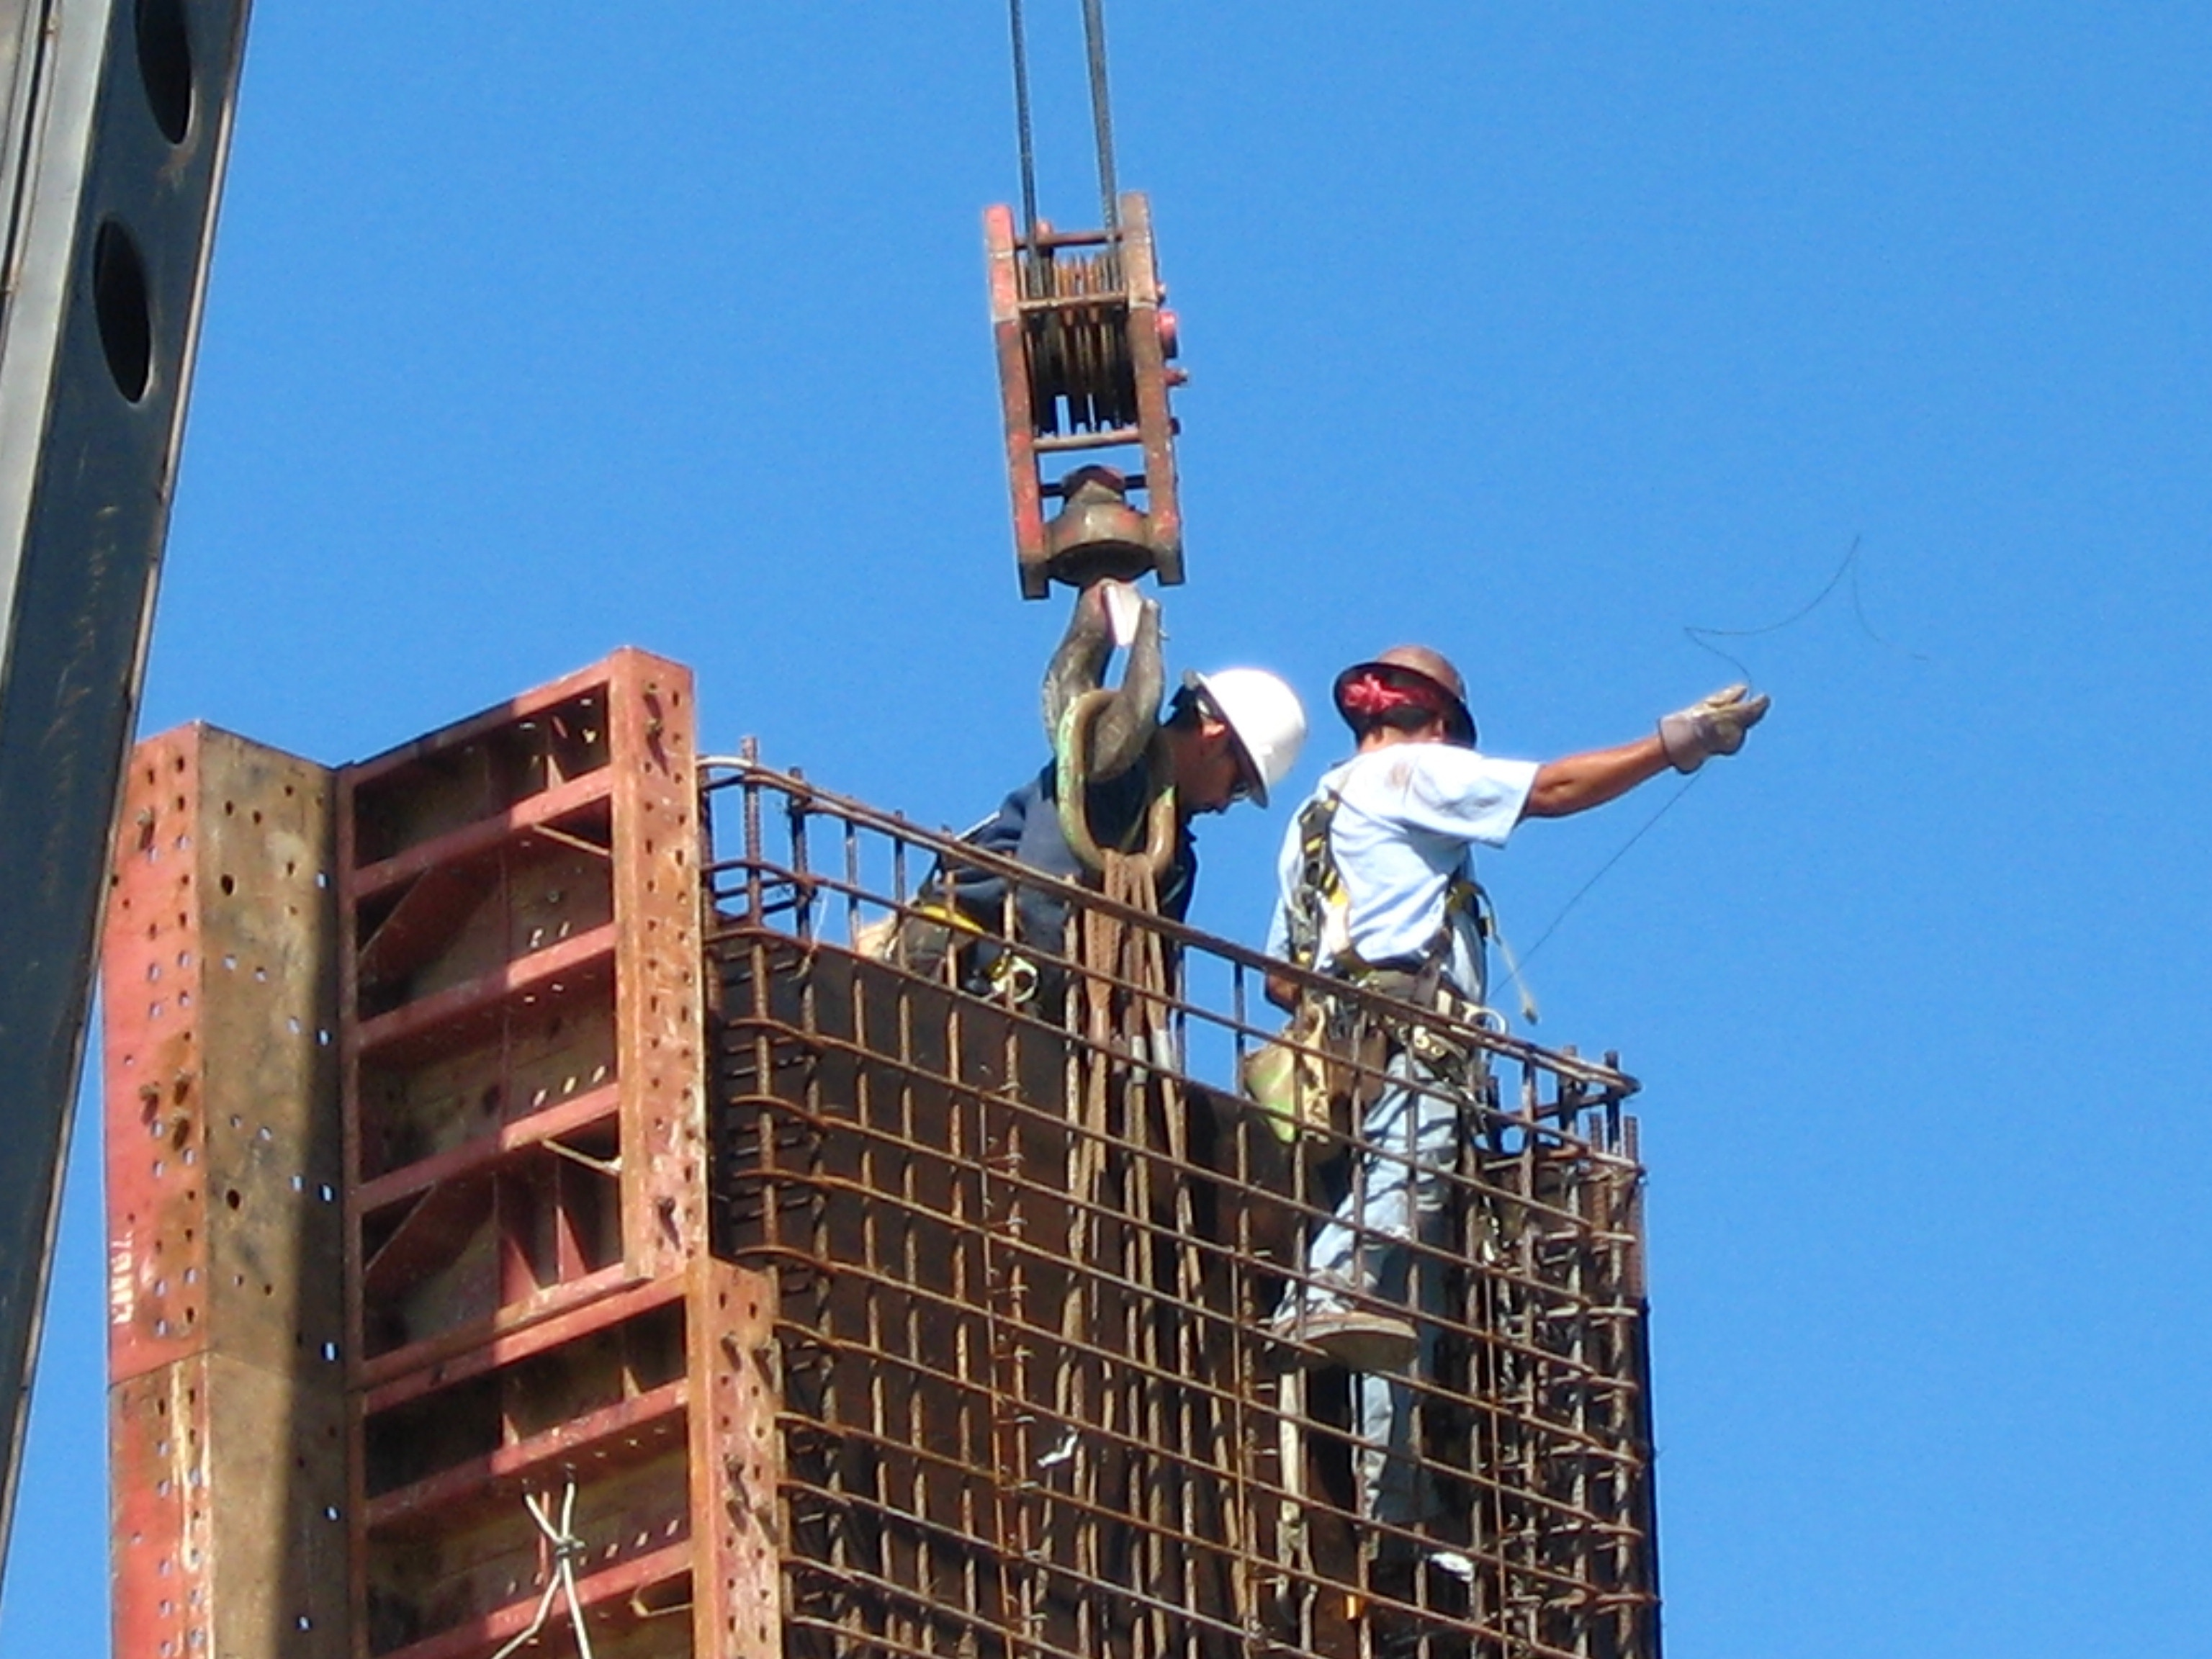white: (1170, 660, 1306, 805)
